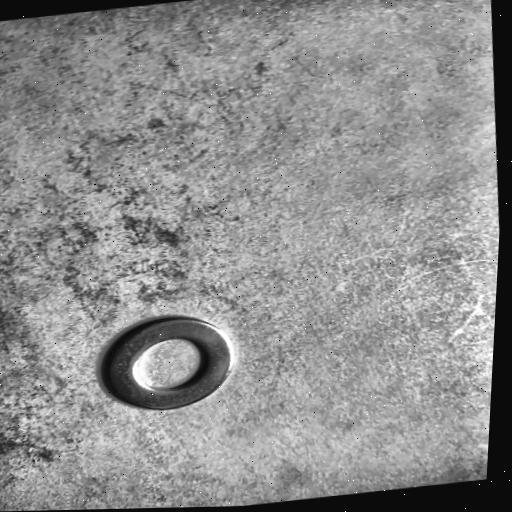Washer: (99, 315, 232, 410)
